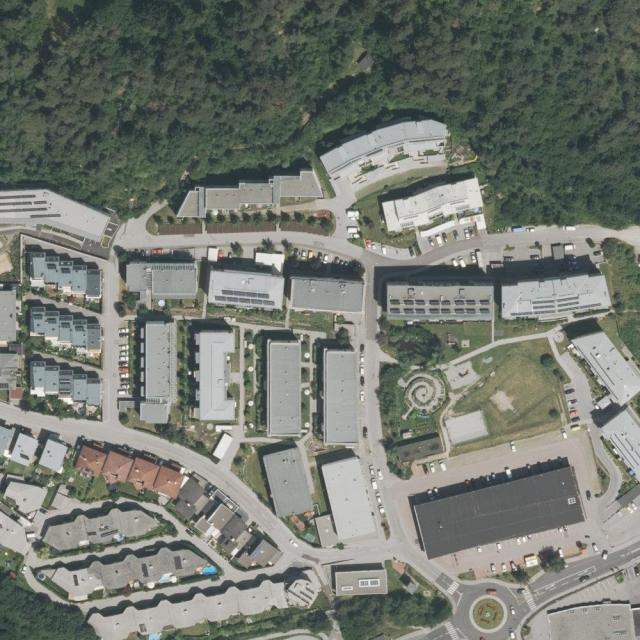building: (412, 465, 585, 561), (165, 470, 289, 585), (317, 106, 459, 205), (34, 533, 220, 608), (87, 576, 289, 640), (173, 167, 324, 222), (71, 435, 189, 501), (39, 500, 161, 556), (497, 270, 613, 327), (570, 320, 640, 408), (19, 351, 111, 417), (380, 177, 486, 234), (17, 296, 110, 360), (20, 244, 109, 303), (320, 455, 377, 542), (0, 421, 72, 485), (386, 284, 494, 321), (262, 447, 314, 519), (206, 267, 286, 313), (196, 331, 235, 421), (324, 350, 359, 445), (267, 340, 301, 436), (599, 409, 640, 481), (126, 261, 198, 300), (290, 276, 364, 312), (144, 321, 176, 402), (0, 475, 49, 520), (268, 167, 324, 205), (281, 574, 323, 616), (334, 567, 387, 596), (314, 513, 340, 550), (0, 288, 16, 343), (0, 352, 19, 390), (140, 402, 169, 424)
greenland: (433, 334, 575, 455), (368, 318, 445, 479), (332, 583, 454, 640), (223, 423, 298, 507), (599, 233, 640, 366), (372, 317, 447, 372), (169, 319, 201, 426), (18, 388, 104, 427), (19, 334, 103, 367), (206, 302, 286, 327), (65, 474, 111, 505), (288, 311, 335, 335), (462, 321, 491, 349)
metalled_road: (520, 540, 640, 612), (445, 325, 551, 367), (588, 427, 627, 519), (556, 348, 601, 422), (518, 225, 618, 254), (139, 580, 232, 609), (79, 589, 162, 620), (228, 556, 312, 579), (183, 533, 232, 571), (20, 568, 58, 598)
